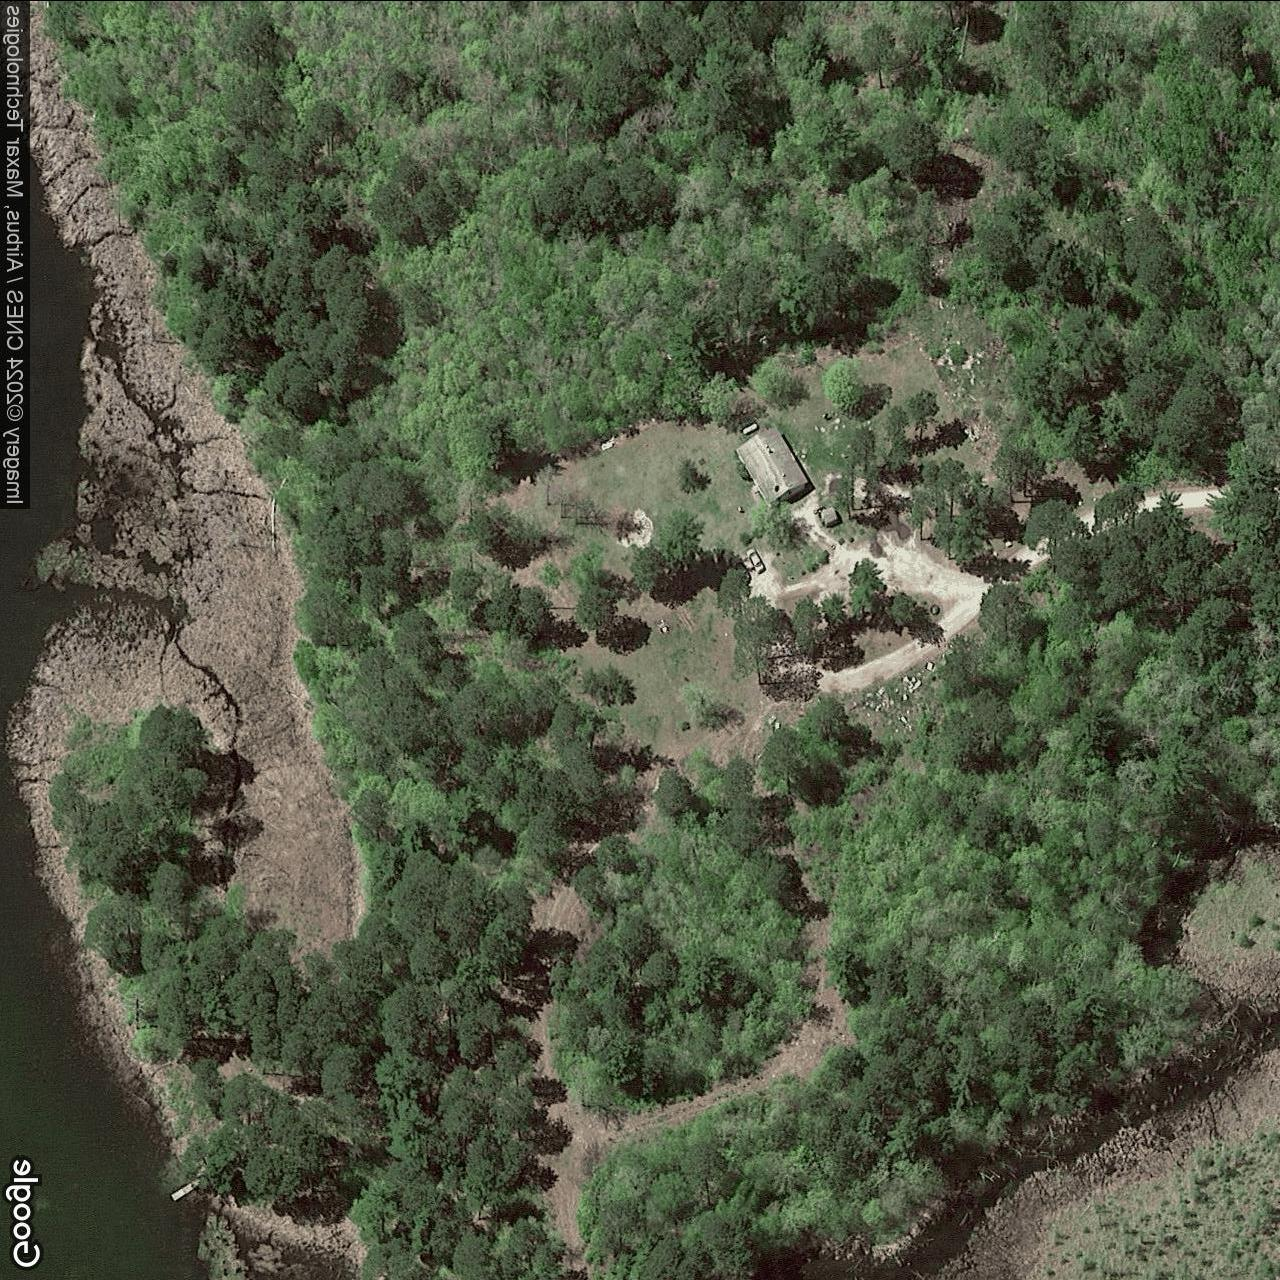House: (733, 425, 810, 504)
Propane: (738, 418, 761, 436)
